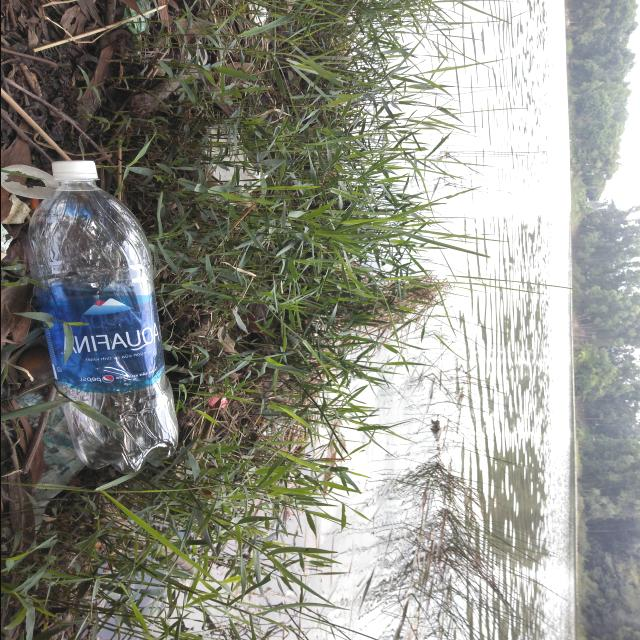Clear plastic bottle: (26, 160, 177, 474)
Other plastic bottle: (0, 164, 58, 199)
Plastic film: (13, 391, 85, 536)
Unlabeled litter: (200, 122, 268, 193), (186, 40, 207, 66)
